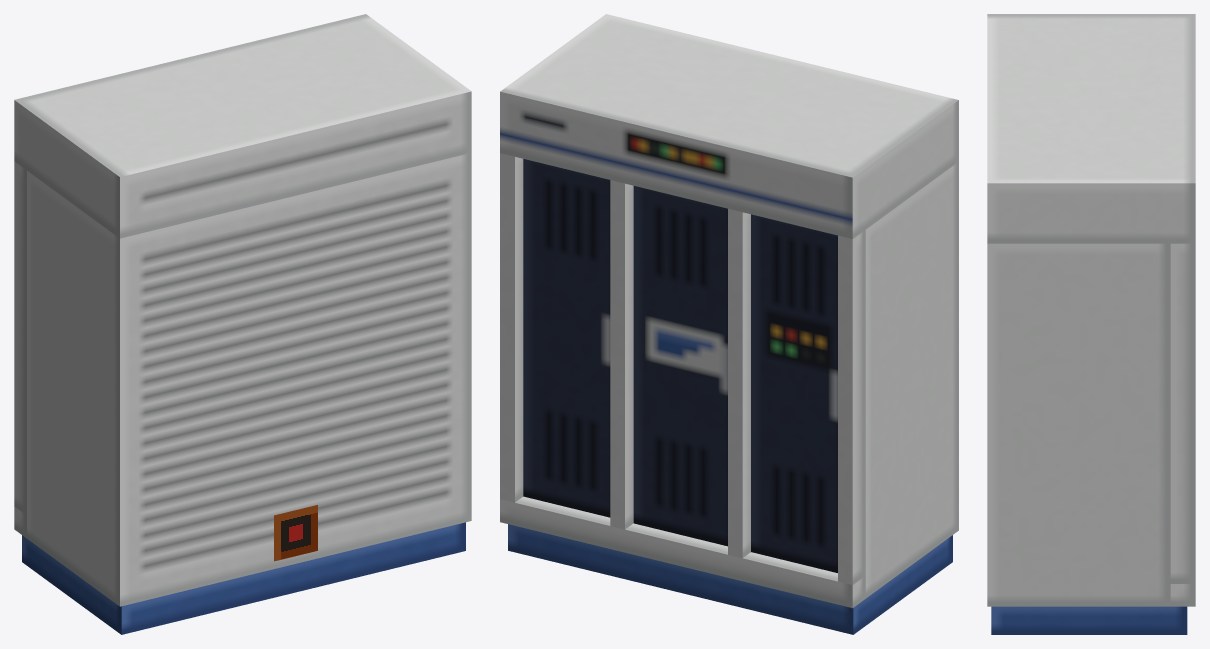
Rendered from era4_disk_processor_double_sided.obj.
The picture shows the model from 3 angles, left to right: view 1: azimuth 30°, elevation 25°; view 2: azimuth 150°, elevation 25°; view 3: azimuth 270°, elevation 25°; orthographic projection.
Parts seen in each view (by area): view 1: era4_disk_processor; view 2: era4_disk_processor; view 3: era4_disk_processor.
Boxes of the visible parts, x1,y1,x2,y2 form: era4_disk_processor: [14, 14, 471, 634]; era4_disk_processor: [500, 14, 958, 634]; era4_disk_processor: [987, 14, 1195, 634].
Bounding box in the file's own units: 3 × 3.75 × 1.56.
